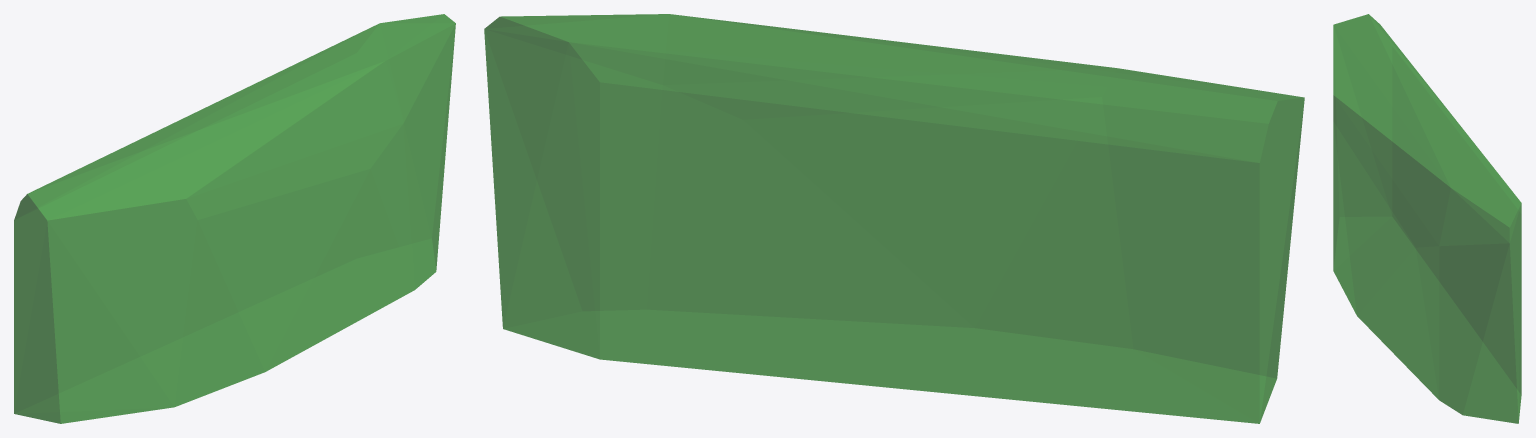
3 views of the same model, side by side, from view 1: azimuth 30°, elevation 25°; view 2: azimuth 150°, elevation 25°; view 3: azimuth 270°, elevation 25° (orthographic). The views are drawn at different scales.
Visible parts, largest first — view 1: Shape_IndexedFaceSet.015_Shape_IndexedFaceSet.8660; view 2: Shape_IndexedFaceSet.015_Shape_IndexedFaceSet.8660; view 3: Shape_IndexedFaceSet.015_Shape_IndexedFaceSet.8660.
Part boxes in pixels (box(x1,y1,x2,y2)): Shape_IndexedFaceSet.015_Shape_IndexedFaceSet.8660: box(14, 14, 455, 423); Shape_IndexedFaceSet.015_Shape_IndexedFaceSet.8660: box(484, 14, 1304, 423); Shape_IndexedFaceSet.015_Shape_IndexedFaceSet.8660: box(1333, 14, 1521, 423).
Bounding box in the file's own units: 0.3575 × 0.1544 × 0.13.
